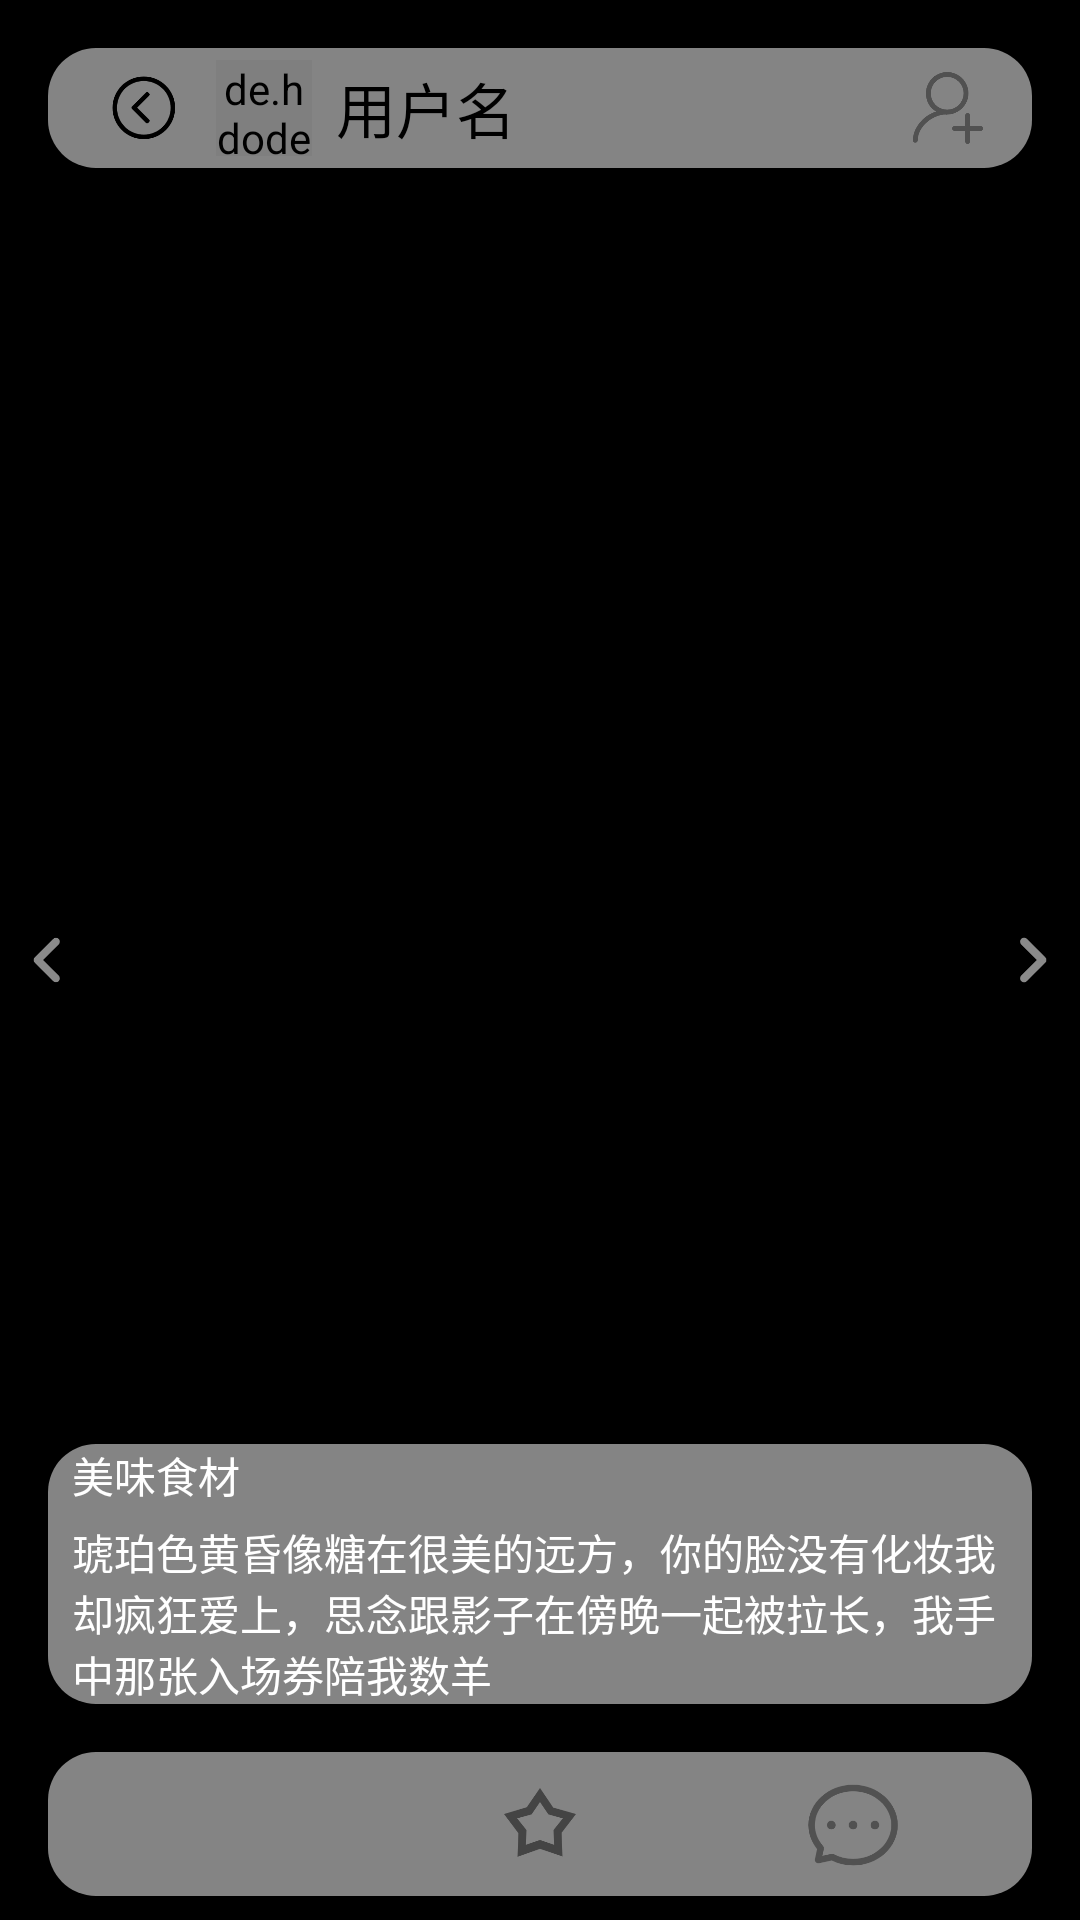

Named icons in this screenshot (1080px x 1920px) and their bounding boxes, (x1, y1, x2, y2):
back: (112, 76, 175, 139)
collect: (504, 1789, 576, 1857)
comment: (808, 1785, 898, 1865)
next: (1020, 937, 1047, 983)
